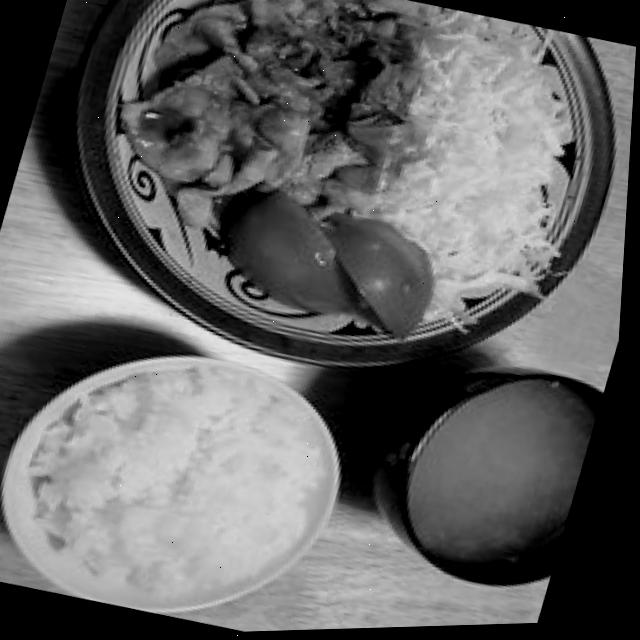猪肉菜式: (7, 0, 640, 442)
